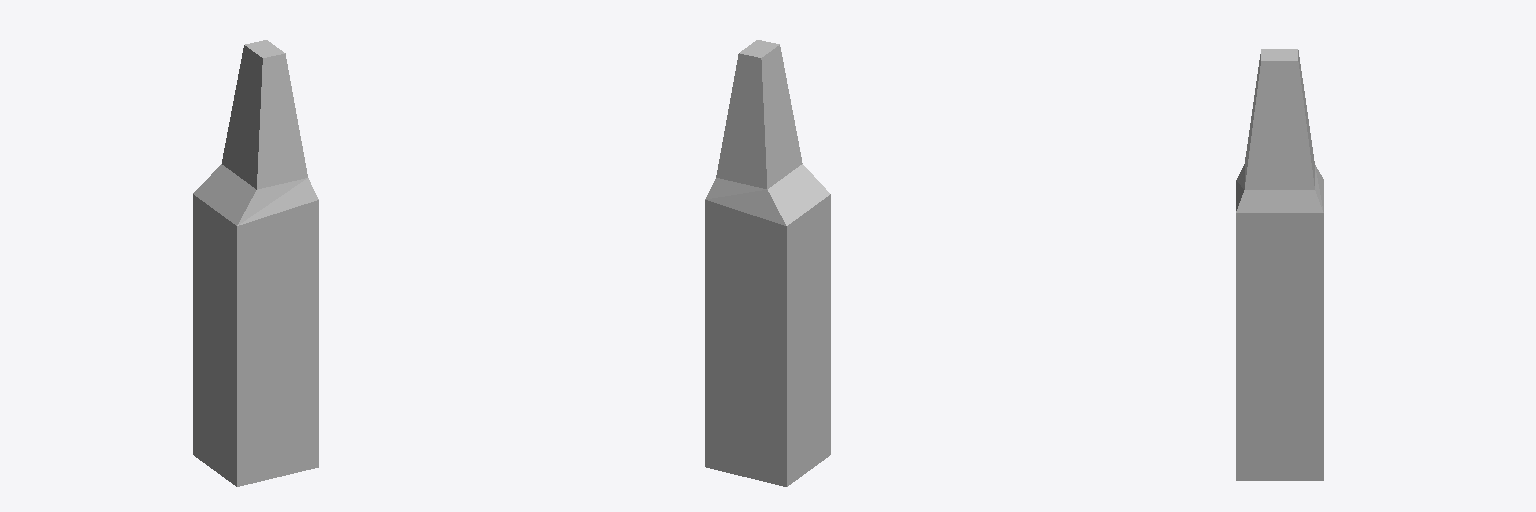
The model's file is buildings009 (463).obj.
The picture shows the model from 3 angles: view 1: azimuth 30°, elevation 25°; view 2: azimuth 150°, elevation 25°; view 3: azimuth 270°, elevation 25°; orthographic projection.
Parts seen in each view (by area): view 1: buildings009 (463); view 2: buildings009 (463); view 3: buildings009 (463).
Part boxes in pixels (x1,y1,x2,y2): buildings009 (463): (193, 40, 318, 486); buildings009 (463): (705, 40, 830, 486); buildings009 (463): (1236, 49, 1323, 480).
Size of the model in its own units: 11.04 by 52.94 by 10.36.